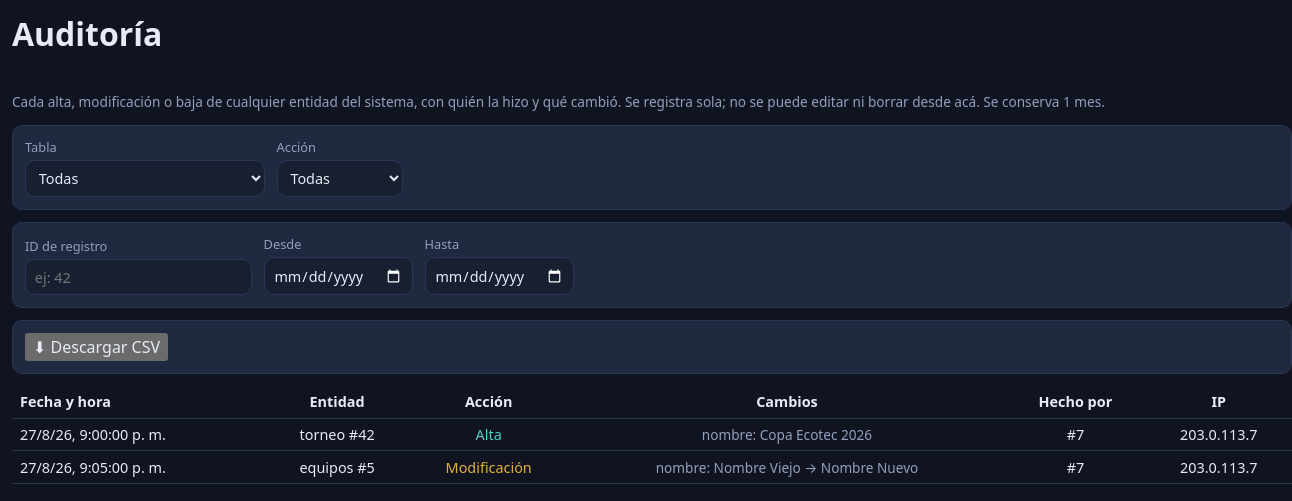
Test case: AuditoriaAdminPage › filtra por acción contra el servidor
Check: the text "torneo #42" is shown, box [266,418,409,451]
Select "Modificación" in the dropdown labelled "Acción". click: (340, 179)
box: [277,160,403,197]
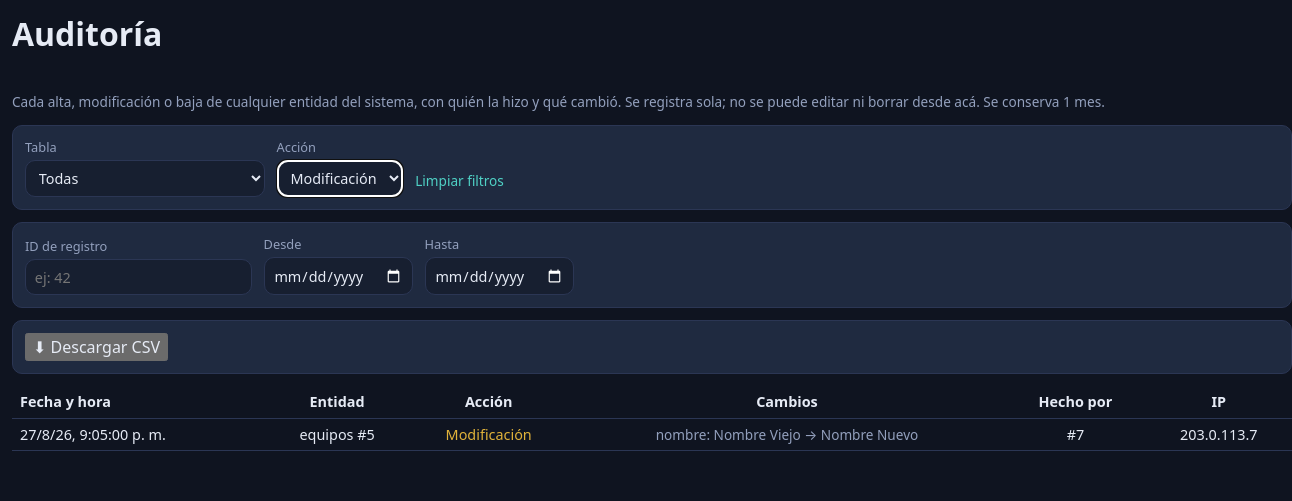
Check: the text "equipos #5" is shown, box [266,418,409,451]
Check: the text "torneo #42" is gone
